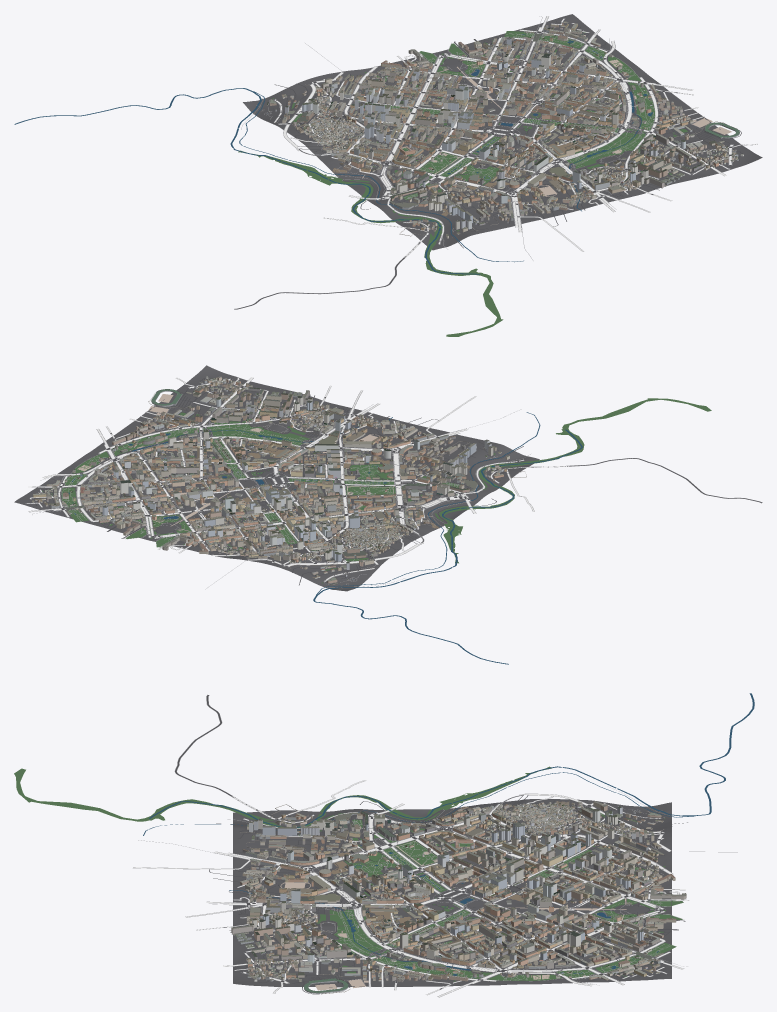
Rendered from yerevan.glb.
3 renders of one model, top to bottom at view 1: azimuth 30°, elevation 25°; view 2: azimuth 150°, elevation 25°; view 3: azimuth 270°, elevation 25°, orthographic. The views are drawn at different scales.
Parts seen in each view (by area): view 1: cell_0_7, cell_0_3, cell_0_0, cell_0_2, cell_0_6, cell_0_4, cell_0_5, cell_4_7, cell_5_7, cell_2_4, cell_2_7, cell_7_6 (+52 smaller); view 2: cell_0_7, cell_0_0, cell_0_1, cell_0_5, cell_7_6, cell_5_6, cell_5_0, cell_0_3, cell_0_2, cell_0_6, cell_3_2, cell_6_1 (+52 smaller); view 3: cell_0_7, cell_0_0, cell_1_1, cell_7_6, cell_0_2, cell_0_3, cell_2_0, cell_1_7, cell_2_7, cell_1_2, cell_6_4, cell_4_0 (+52 smaller).
Part boxes in pixels (left/top/right/bottom): cell_0_7: left=234, top=219, right=509, bottom=336; cell_0_3: left=279, top=142, right=378, bottom=181; cell_0_0: left=14, top=84, right=301, bottom=127; cell_0_2: left=233, top=121, right=355, bottom=162; cell_0_6: left=350, top=196, right=449, bottom=232; cell_0_4: left=319, top=161, right=401, bottom=197; cell_0_5: left=323, top=180, right=427, bottom=222; cell_4_7: left=574, top=172, right=650, bottom=212; cell_5_7: left=615, top=159, right=679, bottom=201; cell_2_4: left=421, top=140, right=483, bottom=171; cell_2_7: left=492, top=198, right=583, bottom=251; cell_7_6: left=674, top=122, right=741, bottom=153; cell_0_7: left=474, top=398, right=762, bottom=503; cell_0_0: left=299, top=559, right=508, bottom=664; cell_0_1: left=327, top=540, right=452, bottom=581; cell_0_5: left=425, top=476, right=534, bottom=511; cell_7_6: left=150, top=386, right=223, bottom=414; cell_5_6: left=242, top=406, right=307, bottom=436; cell_5_0: left=98, top=508, right=163, bottom=539; cell_0_3: left=380, top=508, right=461, bottom=546; cell_0_2: left=354, top=526, right=458, bottom=567; cell_0_6: left=451, top=462, right=527, bottom=500; cell_3_2: left=229, top=496, right=293, bottom=524; cell_6_1: left=80, top=479, right=144, bottom=507; cell_0_7: left=14, top=694, right=287, bottom=831; cell_0_0: left=613, top=693, right=754, bottom=824; cell_1_1: left=561, top=810, right=618, bottom=848; cell_7_6: left=286, top=961, right=348, bottom=994; cell_0_2: left=507, top=766, right=568, bottom=825; cell_0_3: left=451, top=782, right=508, bottom=826; cell_2_0: left=613, top=839, right=737, bottom=870; cell_1_7: left=138, top=821, right=290, bottom=853; cell_2_7: left=133, top=849, right=287, bottom=877; cell_1_2: left=502, top=818, right=565, bottom=849; cell_6_4: left=397, top=932, right=460, bottom=965; cell_4_0: left=616, top=889, right=689, bottom=916.
Size of the model in its own units: 3728 by 155 by 3753.
